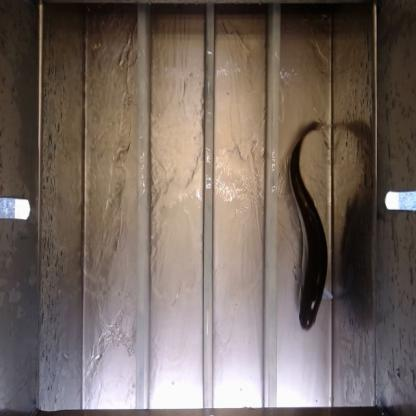pezw: (284, 114, 335, 334)
